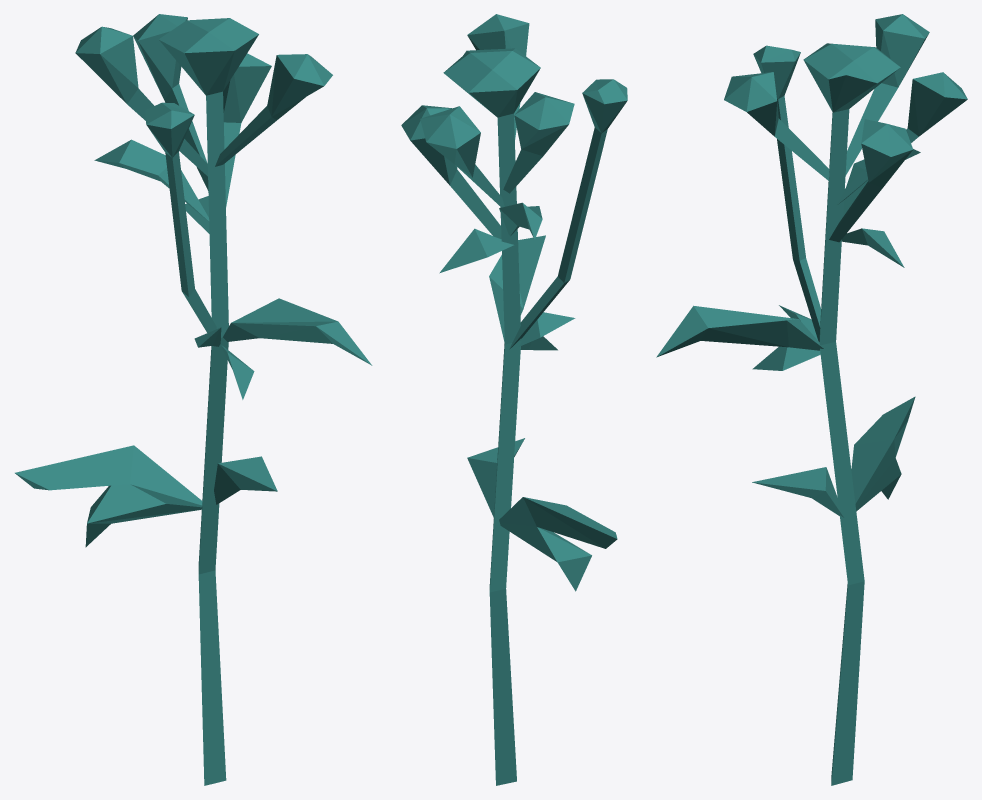
Rendered from SM_Flower_Yarrow_Single_Mature_C.fbx.
The picture shows the model from 3 angles, left to right: view 1: azimuth 30°, elevation 25°; view 2: azimuth 150°, elevation 25°; view 3: azimuth 270°, elevation 25°; orthographic projection. The views are drawn at different scales.
Parts seen in each view (by area): view 1: flower-yarrow-single-mature-c; view 2: flower-yarrow-single-mature-c; view 3: flower-yarrow-single-mature-c.
Part boxes in pixels (bbox=[...]): flower-yarrow-single-mature-c: bbox=[15, 14, 372, 785]; flower-yarrow-single-mature-c: bbox=[401, 14, 627, 785]; flower-yarrow-single-mature-c: bbox=[656, 14, 967, 785].
Bounding box in the file's own units: 0.206 × 0.6281 × 0.2419.
